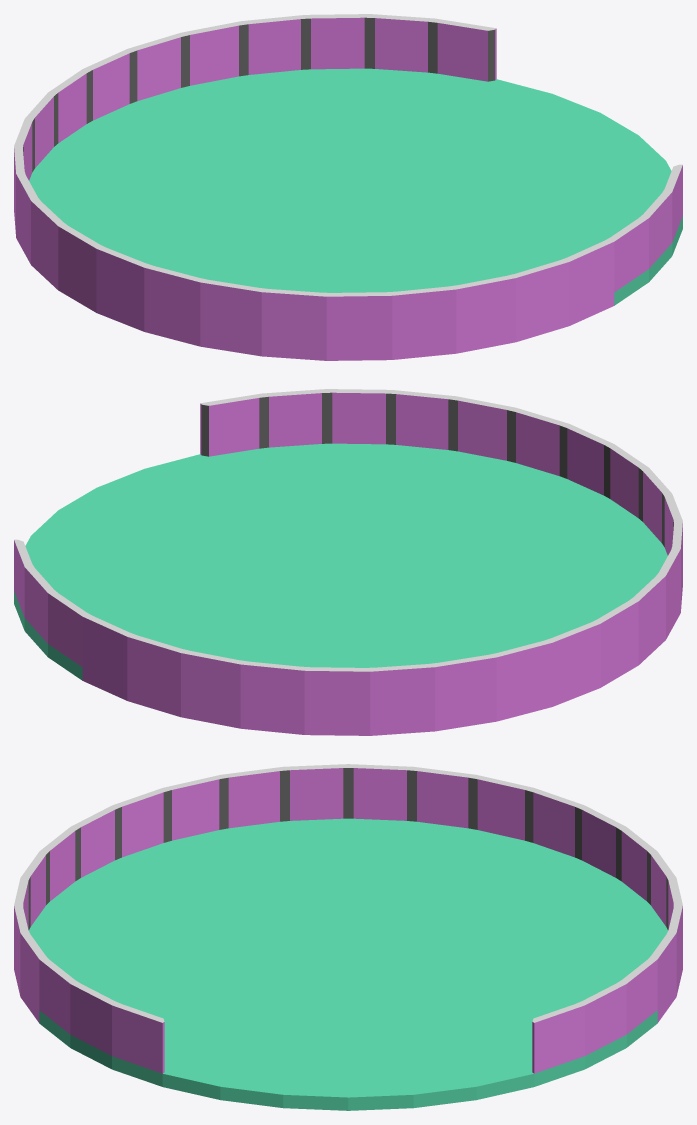
File: Big Ring Platform.fbx
3 views of the same model, one above another, from view 1: azimuth 30°, elevation 25°; view 2: azimuth 150°, elevation 25°; view 3: azimuth 270°, elevation 25° (orthographic).
Parts seen in each view (by area): view 1: Big Ring Platform; view 2: Big Ring Platform; view 3: Big Ring Platform.
Boxes of the visible parts, bbox=[...] form: Big Ring Platform: bbox=[14, 14, 682, 360]; Big Ring Platform: bbox=[14, 389, 682, 735]; Big Ring Platform: bbox=[14, 764, 682, 1110].
Size of the model in its own units: 6591 by 697 by 6591.
